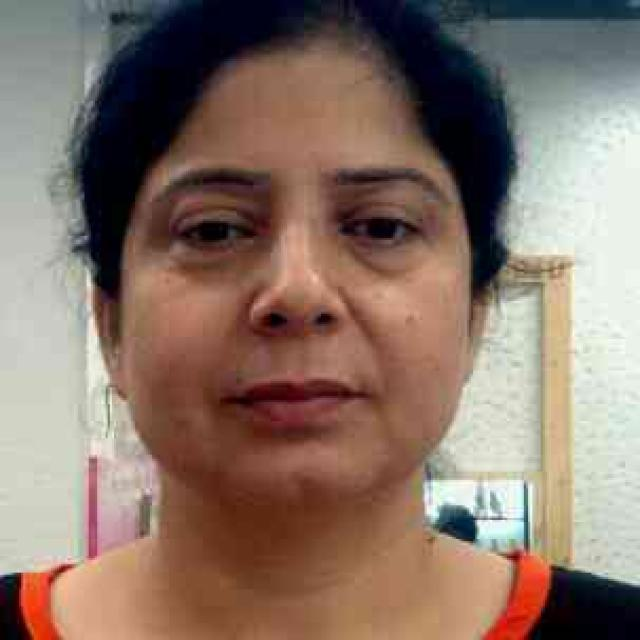puffy_eyes: (180, 233, 268, 279), (342, 243, 427, 278)
